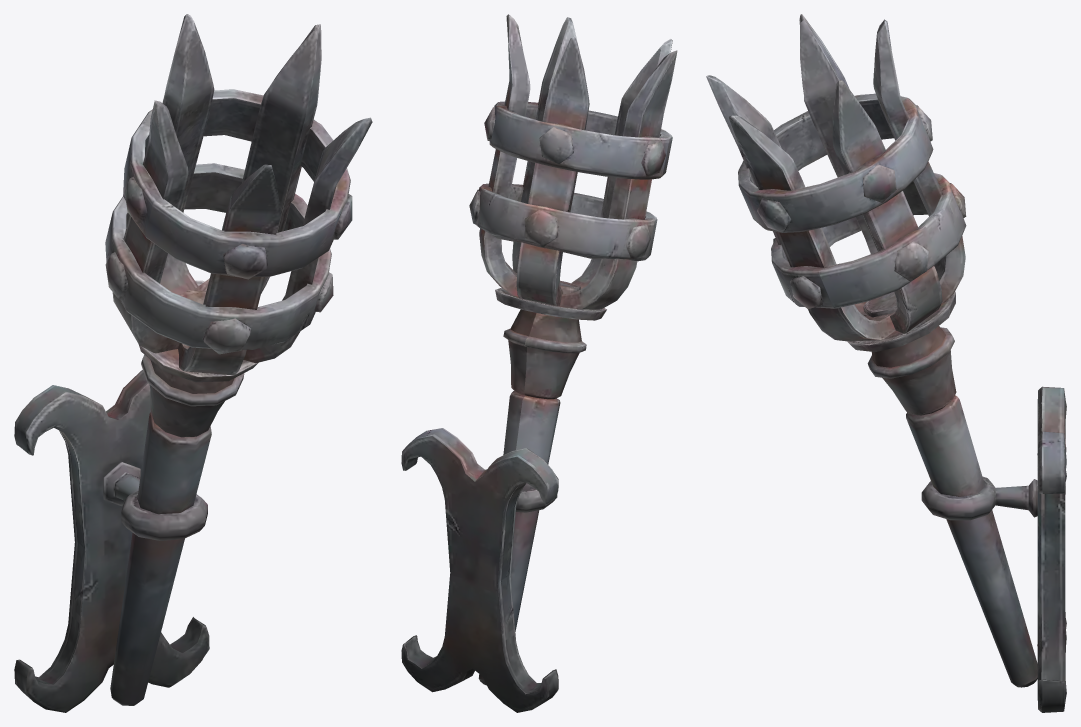
3 views of the same model, side by side, from view 1: azimuth 30°, elevation 25°; view 2: azimuth 150°, elevation 25°; view 3: azimuth 270°, elevation 25° (orthographic). The views are drawn at different scales.
Visible parts, largest first — view 1: SM_Temple_Wall_Torch_01_LOD0; view 2: SM_Temple_Wall_Torch_01_LOD0; view 3: SM_Temple_Wall_Torch_01_LOD0.
Boxes of the visible parts, x1,y1,x2,y2 form: SM_Temple_Wall_Torch_01_LOD0: [14, 14, 372, 712]; SM_Temple_Wall_Torch_01_LOD0: [401, 14, 677, 712]; SM_Temple_Wall_Torch_01_LOD0: [706, 14, 1066, 712].
Size of the model in its own units: 0.2667 by 0.9608 by 0.4753.
1 material, 1 textured.
